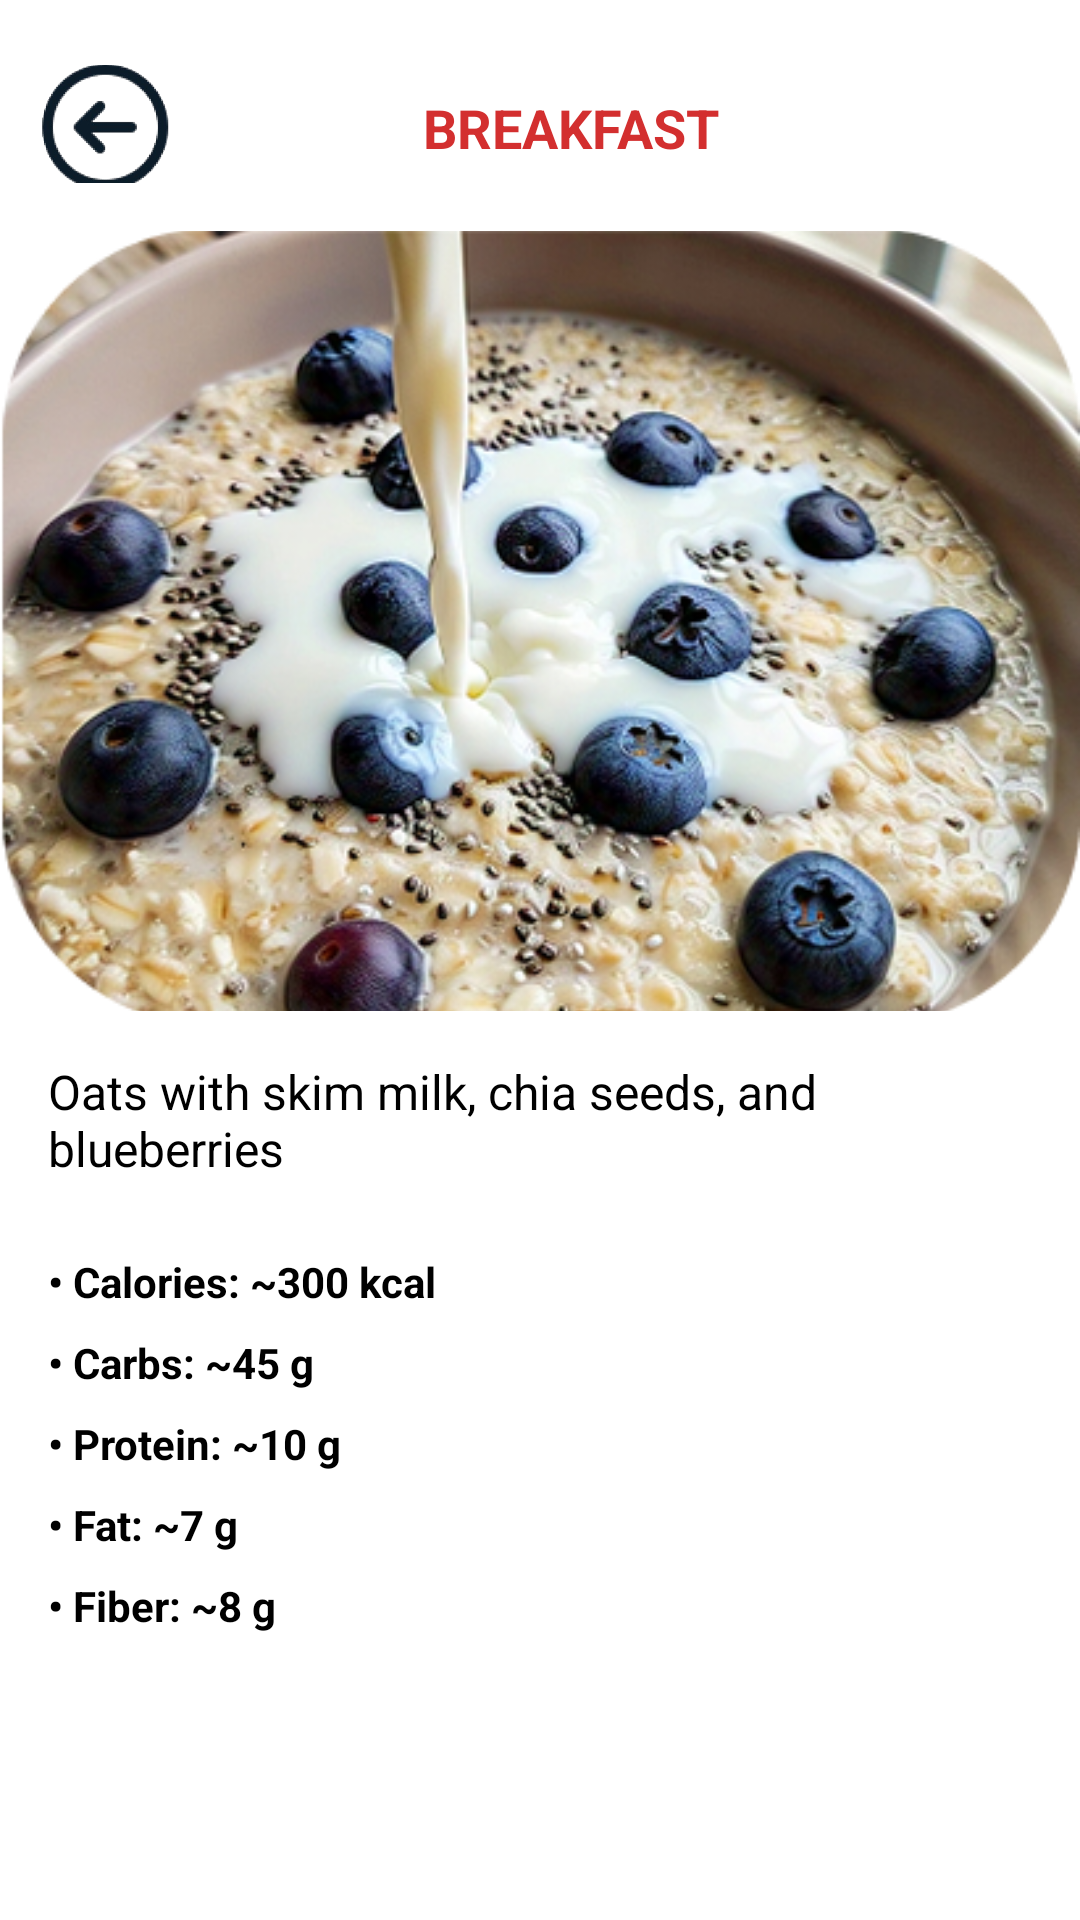

Screen size 1080px×1920px. Icon name, then its box in pixels as (x1, y1, x2, y2):
Back: (42, 65, 169, 183)
